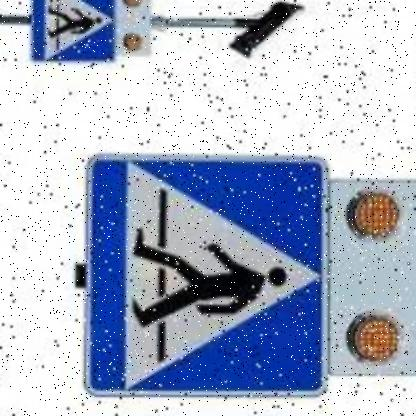Pedestrian Crossing: (81, 155, 331, 403), (24, 1, 117, 66)
